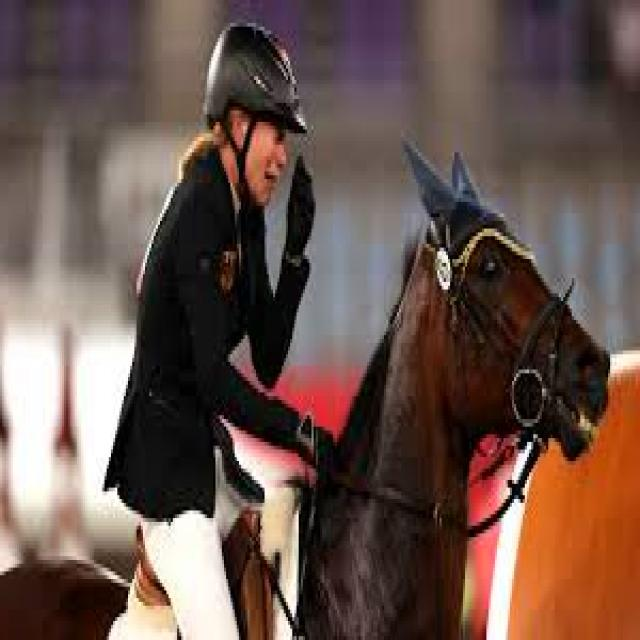horse: (301, 141, 610, 636)
